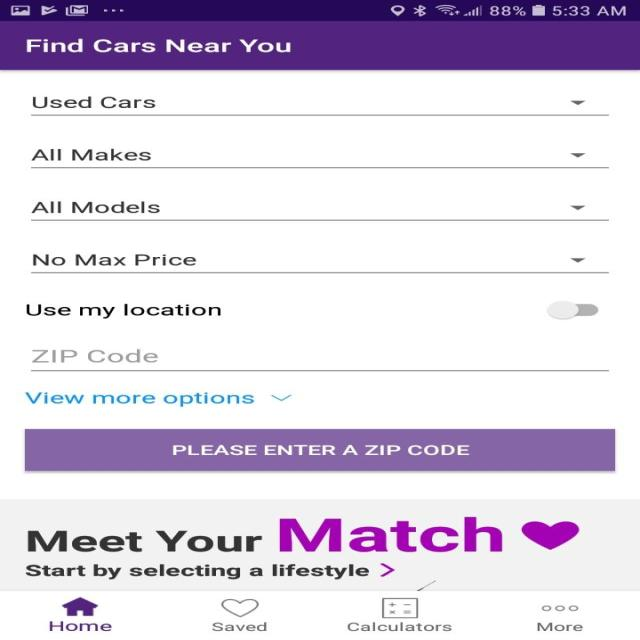EditText: (31, 348, 609, 372), (31, 253, 609, 274), (31, 96, 609, 116), (30, 201, 608, 221), (30, 149, 609, 168)
Icon: (520, 520, 579, 550), (381, 597, 419, 618), (220, 598, 258, 617), (61, 597, 98, 616), (540, 604, 578, 610), (378, 562, 394, 576), (270, 394, 292, 401), (569, 204, 586, 210), (570, 257, 586, 263), (569, 152, 585, 158), (569, 100, 585, 105)
Text: (278, 516, 502, 552), (25, 563, 369, 580), (26, 529, 262, 552), (26, 39, 290, 53), (24, 392, 254, 407), (26, 303, 220, 318), (32, 253, 196, 266), (31, 348, 158, 363), (32, 96, 156, 109), (30, 148, 151, 161), (30, 201, 160, 213), (346, 622, 452, 632), (49, 620, 112, 631), (212, 621, 266, 631), (535, 621, 582, 631)
TextButton: (24, 428, 614, 471)
